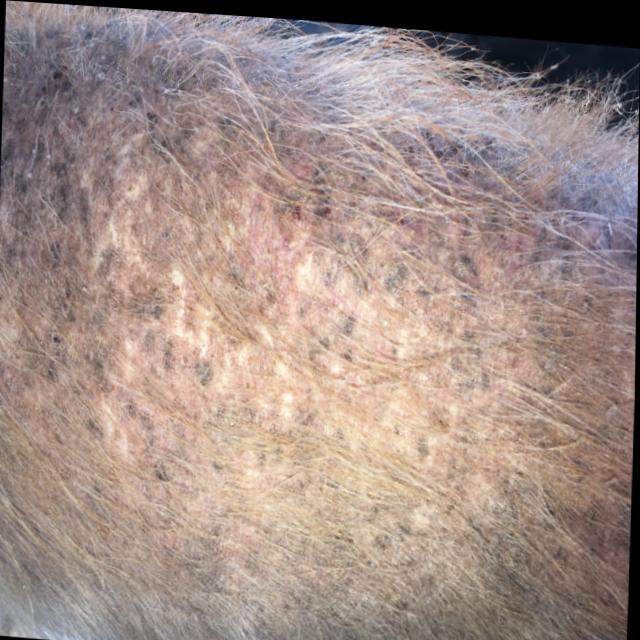demodicosis: (29, 72, 376, 368), (381, 104, 639, 339)
